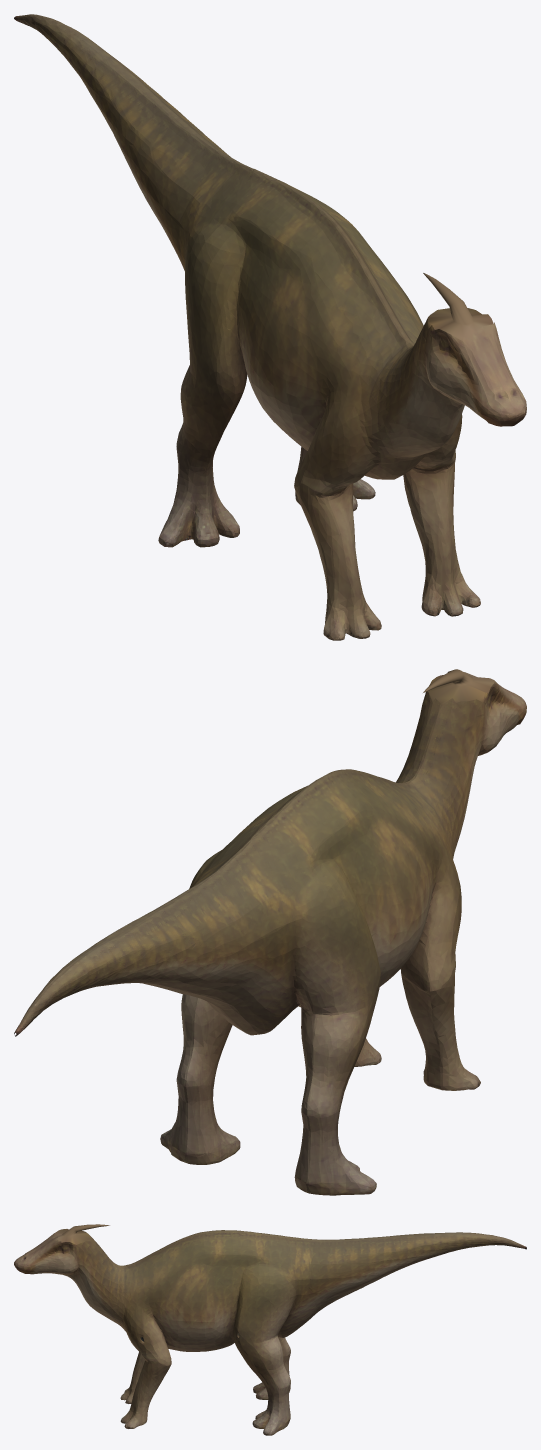
The picture shows the model from 3 angles, top to bottom: view 1: azimuth 30°, elevation 25°; view 2: azimuth 150°, elevation 25°; view 3: azimuth 270°, elevation 25°; orthographic projection. The views are drawn at different scales.
Visible parts, largest first — view 1: world; view 2: world; view 3: world.
Boxes of the visible parts, bbox=[...] form: world: bbox=[14, 14, 526, 640]; world: bbox=[14, 669, 526, 1195]; world: bbox=[14, 1224, 526, 1435].
Size of the model in its own units: 0.2444 by 0.4004 by 0.9976.
Materials: 2 (1 with a texture image).
